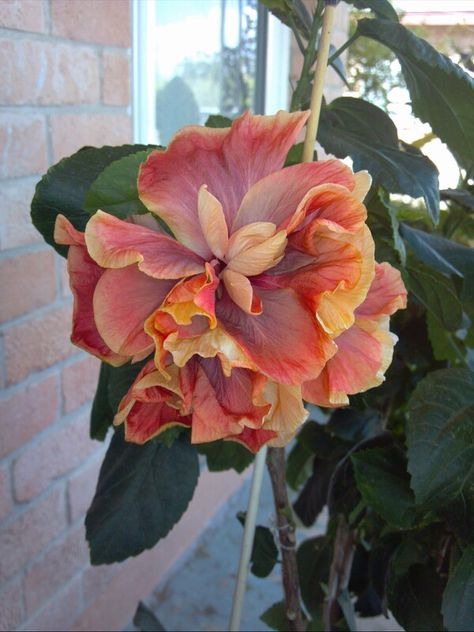Hibiscus: (53, 116, 403, 450)
